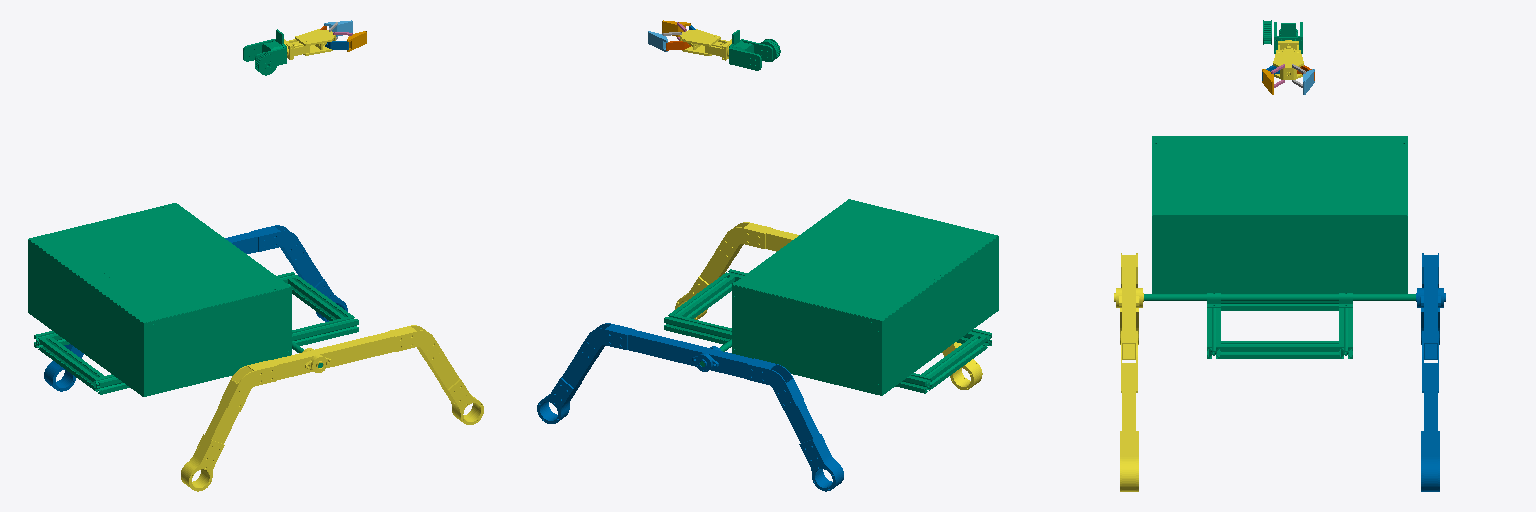
URDF robot description (atom):
<?xml version="1.0"?>
<robot name="atom">
  <!-- This file is used only for state publishing (robot/joint), and is not part of the simulation itself -->

  <link name="atom"/>
  <joint name="atom_to_atom_body" type="fixed">
    <parent link="atom"/>
    <child link="atom_body"/>
  </joint>

  <link name="atom_body"/>
  <joint name="atom_body_to_Body" type="fixed">
    <parent link="atom_body"/>
    <child link="Body"/>
  </joint>

  <!-- Base body link -->
  <link name="Body">
    <inertial>
      <mass value="1.14395"/>
      <inertia ixx="0.095329" ixy="0" ixz="0" iyy="0.381317" iyz="0" izz="0.476646"/>
    </inertial>
    <visual>
      <geometry>
        <mesh filename="models/atom/Body/Body.obj"/>
      </geometry>
    </visual>
    <collision>
      <origin xyz="-0.2 0 -0.0815"/>
      <geometry>
        <box size="0.4 0.44 0.163"/>
      </geometry>
    </collision>
  </link>

  <link name="RL">
    <inertial>
      <mass value="1.14395"/>
      <inertia ixx="0.095329" ixy="0" ixz="0" iyy="0.381317" iyz="0" izz="0.476646"/>
    </inertial>
    <visual>
      <geometry>
        <mesh filename="models/atom/Body/RL.obj"/>
      </geometry>
    </visual>
    <collision>
      <origin xyz="-0.05192 -0.0325 0"/>
      <geometry>
        <box size="0.487 0.04 0.057"/>
      </geometry>
    </collision>
  </link>

  <link name="LL">
    <inertial>
      <mass value="1.14395"/>
      <inertia ixx="0.095329" ixy="0" ixz="0" iyy="0.381317" iyz="0" izz="0.476646"/>
    </inertial>
    <visual>
      <geometry>
        <mesh filename="models/atom/Body/LL.obj"/>
      </geometry>
    </visual>
    <collision>
      <origin xyz="-0.05192 -0.0325 0"/>
      <geometry>
        <box size="0.487 0.04 0.057"/>
      </geometry>
    </collision>
  </link>

  <link name="RFW">
    <inertial>
      <mass value="1.14395"/>
      <inertia ixx="0.095329" ixy="0" ixz="0" iyy="0.381317" iyz="0" izz="0.476646"/>
    </inertial>
    <visual>
      <geometry>
        <mesh filename="models/atom/Body/Wheel_L.obj" scale="1 -1 1"/>
      </geometry>
    </visual>
    <collision>
      <origin xyz="0 -0.098 0" rpy="1.5707 0 0"/>
      <geometry>
        <cylinder radius="0.16" length="0.12"/>
      </geometry>
    </collision>
  </link>

  <link name="RBW">
    <inertial>
      <mass value="1.14395"/>
      <inertia ixx="0.095329" ixy="0" ixz="0" iyy="0.381317" iyz="0" izz="0.476646"/>
    </inertial>
    <visual>
      <geometry>
        <mesh filename="models/atom/Body/Wheel_L.obj" scale="1 -1 1"/>
      </geometry>
    </visual>
    <collision>
      <origin xyz="0 -0.098 0" rpy="1.5707 0 0"/>
      <geometry>
        <cylinder radius="0.16" length="0.12"/>
      </geometry>
    </collision>
  </link>

  <link name="LBW">
    <inertial>
      <mass value="1.14395"/>
      <inertia ixx="0.095329" ixy="0" ixz="0" iyy="0.381317" iyz="0" izz="0.476646"/>
    </inertial>
    <visual>
      <geometry>
        <mesh filename="models/atom/Body/Wheel_L.obj" scale="1 1 1"/>
      </geometry>
    </visual>
    <collision>
      <origin xyz="0 -0.098 0" rpy="1.5707 0 0"/>
      <geometry>
        <cylinder radius="0.16" length="0.12"/>
      </geometry>
    </collision>
  </link>

  <link name="LFW">
    <inertial>
      <mass value="1.14395"/>
      <inertia ixx="0.095329" ixy="0" ixz="0" iyy="0.381317" iyz="0" izz="0.476646"/>
    </inertial>
    <visual>
      <geometry>
        <mesh filename="models/atom/Body/Wheel_L.obj" scale="1 1 1"/>
      </geometry>
    </visual>
    <collision>
      <origin xyz="0 -0.098 0" rpy="1.5707 0 0"/>
      <geometry>
        <cylinder radius="0.16" length="0.12"/>
      </geometry>
    </collision>
  </link>

  <link name="Lidar_Link"/>
  <joint name="LIDAR_Body" type="fixed">
    <parent link="Body"/>
    <child link="Lidar_Link"/>
    <origin xyz="-0.015 0 -0.115" rpy="0 0 0"/>
  </joint>

  <link name="gpu_lidar"/>
  <joint name="Lidar_Link_gpu_lidar" type="fixed">
    <parent link="Lidar_Link"/>
    <child link="gpu_lidar"/>
    <origin xyz="0 0 0" rpy="0 0 0"/>
  </joint>

  <!-- Depth camera -->
  <link name="depth_camera"/>

  <joint name="Body_depth" type="fixed">
    <parent link="Body"/>
    <child link="depth_camera"/>
    <origin xyz="0.2325 0 0.015"/>
  </joint>

  <link name="camera_sensor"/>
  <joint name="depth_camera_camera_sensor" type="fixed">
    <parent link="depth_camera"/>
    <child link="camera_sensor"/>
    <origin xyz="0 0 0" rpy="0 0 0"/>
  </joint>

  <link name="depth_sensor"/>
  <joint name="depth_camera_depth_sensor" type="fixed">
    <parent link="depth_camera"/>
    <child link="depth_sensor"/>
    <origin xyz="0 0 0" rpy="0 0 0"/>
  </joint>

  <!-- ARM -->
  <!-- All arm links are rotated 90° about Z to face forward (+X) instead of sideways (-Y) -->

  <link name="STEM">
    <inertial>
      <mass value="1.14395"/>
      <inertia ixx="0.095329" ixy="0" ixz="0" iyy="0.381317" iyz="0" izz="0.476646"/>
    </inertial>
    <visual>
      <origin rpy="0 0 1.5708"/>
      <geometry>
        <mesh filename="models/atom/Arm/STEM.obj"/>
      </geometry>
    </visual>
    <collision>
      <geometry>
        <box size="0.2 0.2 0.2"/>
      </geometry>
    </collision>
  </link>

  <link name="A1">
    <inertial>
      <mass value="1.14395"/>
      <inertia ixx="0.095329" ixy="0" ixz="0" iyy="0.381317" iyz="0" izz="0.476646"/>
    </inertial>
    <visual>
      <origin rpy="0 0 1.5708"/>
      <geometry>
        <mesh filename="models/atom/Arm/A1.obj"/>
      </geometry>
    </visual>
  </link>

  <link name="A2">
    <inertial>
      <mass value="1.14395"/>
      <inertia ixx="0.095329" ixy="0" ixz="0" iyy="0.381317" iyz="0" izz="0.476646"/>
    </inertial>
    <visual>
      <origin rpy="0 0 1.5708"/>
      <geometry>
        <mesh filename="models/atom/Arm/A2.obj"/>
      </geometry>
    </visual>
  </link>

  <link name="A3">
    <inertial>
      <mass value="1.14395"/>
      <inertia ixx="0.095329" ixy="0" ixz="0" iyy="0.381317" iyz="0" izz="0.476646"/>
    </inertial>
    <visual>
      <origin rpy="0 0 1.5708"/>
      <geometry>
        <mesh filename="models/atom/Arm/A3.obj"/>
      </geometry>
    </visual>
  </link>

  <link name="A4">
    <inertial>
      <mass value="1.14395"/>
      <inertia ixx="0.095329" ixy="0" ixz="0" iyy="0.381317" iyz="0" izz="0.476646"/>
    </inertial>
    <visual>
      <origin rpy="0 0 1.5708"/>
      <geometry>
        <mesh filename="models/atom/Arm/A4.obj"/>
      </geometry>
    </visual>
  </link>

  <link name="A5">
    <inertial>
      <mass value="1.14395"/>
      <inertia ixx="0.095329" ixy="0" ixz="0" iyy="0.381317" iyz="0" izz="0.476646"/>
    </inertial>
    <visual>
      <origin rpy="0 0 1.5708"/>
      <geometry>
        <mesh filename="models/atom/Arm/A5.obj"/>
      </geometry>
    </visual>
  </link>

  <!-- Gripper links -->
  <link name="G_R1">
    <inertial>
      <mass value="1.14395"/>
      <inertia ixx="0.095329" ixy="0" ixz="0" iyy="0.381317" iyz="0" izz="0.476646"/>
    </inertial>
    <visual>
      <origin rpy="0 0 1.5708"/>
      <geometry>
        <mesh filename="models/atom/Arm/G_R1.obj"/>
      </geometry>
    </visual>
  </link>

  <link name="G_L1">
    <inertial>
      <mass value="1.14395"/>
      <inertia ixx="0.095329" ixy="0" ixz="0" iyy="0.381317" iyz="0" izz="0.476646"/>
    </inertial>
    <visual>
      <origin rpy="0 0 1.5708"/>
      <geometry>
        <mesh filename="models/atom/Arm/G_L1.obj"/>
      </geometry>
    </visual>
  </link>

  <link name="G_R2">
    <inertial>
      <mass value="1.14395"/>
      <inertia ixx="0.095329" ixy="0" ixz="0" iyy="0.381317" iyz="0" izz="0.476646"/>
    </inertial>
    <visual>
      <origin rpy="0 0 1.5708"/>
      <geometry>
        <mesh filename="models/atom/Arm/G_R2.obj"/>
      </geometry>
    </visual>
  </link>

  <link name="G_L2">
    <inertial>
      <mass value="1.14395"/>
      <inertia ixx="0.095329" ixy="0" ixz="0" iyy="0.381317" iyz="0" izz="0.476646"/>
    </inertial>
    <visual>
      <origin rpy="0 0 1.5708"/>
      <geometry>
        <mesh filename="models/atom/Arm/G_L2.obj"/>
      </geometry>
    </visual>
  </link>

  <link name="RP">
    <inertial>
      <mass value="1.14395"/>
      <inertia ixx="0.095329" ixy="0" ixz="0" iyy="0.381317" iyz="0" izz="0.476646"/>
    </inertial>
    <visual>
      <origin rpy="0 0 1.5708"/>
      <geometry>
        <mesh filename="models/atom/Arm/RP.obj"/>
      </geometry>
    </visual>
  </link>

  <link name="LP">
    <inertial>
      <mass value="1.14395"/>
      <inertia ixx="0.095329" ixy="0" ixz="0" iyy="0.381317" iyz="0" izz="0.476646"/>
    </inertial>
    <visual>
      <origin rpy="0 0 1.5708"/>
      <geometry>
        <mesh filename="models/atom/Arm/LP.obj"/>
      </geometry>
    </visual>
  </link>

  <joint name="Body_Arm" type="fixed">
    <parent link="Body"/>
    <child link="STEM"/>
    <origin xyz="0.1175 0 0.008" rpy="0 0 0"/>
  </joint>

  <joint name="STEM_A1" type="revolute">
    <parent link="STEM"/>
    <child link="A1"/>
    <origin xyz="0 0 0.016" rpy="0 0 0"/>
    <axis xyz="0 0 1"/>
    <limit lower="-3.14159" upper="3.14159" effort="100" velocity="1"/>
  </joint>

  <joint name="A1_A2" type="revolute">
    <parent link="A1"/>
    <child link="A2"/>
    <origin xyz="0 0.016 0.08" rpy="0 0 0"/>
    <axis xyz="0 1 0"/>
    <limit lower="-1.5708" upper="1.5708" effort="100" velocity="1"/>
  </joint>

  <joint name="A2_A3" type="revolute">
    <parent link="A2"/>
    <child link="A3"/>
    <origin xyz="-0.19874 0.0021 0.33612" rpy="0 0 0"/>
    <axis xyz="0 1 0"/>
    <limit lower="-1.5708" upper="1.5708" effort="100" velocity="1"/>
  </joint>

  <joint name="A3_A4" type="revolute">
    <parent link="A3"/>
    <child link="A4"/>
    <origin xyz="0.1469 0 0.21224" rpy="0 0 0"/>
    <axis xyz="0 1 0"/>
    <limit lower="-1.5708" upper="1.5708" effort="100" velocity="1"/>
  </joint>

  <joint name="A4_A5" type="revolute">
    <parent link="A4"/>
    <child link="A5"/>
    <origin xyz="0.068 0 0" rpy="0 0 0"/>
    <axis xyz="0 1 0"/>
    <limit lower="-1.5708" upper="1.5708" effort="100" velocity="1"/>
  </joint>

  <joint name="A5_GL1" type="revolute">
    <parent link="A5"/>
    <child link="G_L1"/>
    <origin xyz="0.116 0.03 0" rpy="0 0 0"/>
    <axis xyz="0 0 1"/>
    <limit lower="-0.7854" upper="0.7854" effort="100" velocity="1"/>
  </joint>

  <joint name="A5_GR1" type="revolute">
    <parent link="A5"/>
    <child link="G_R1"/>
    <origin xyz="0.116 -0.03 0" rpy="0 0 0"/>
    <axis xyz="0 0 1"/>
    <limit lower="-0.7854" upper="0.7854" effort="100" velocity="1"/>
  </joint>

  <joint name="A5_GL2" type="revolute">
    <parent link="A5"/>
    <child link="G_L2"/>
    <origin xyz="0.136 0.01 0" rpy="0 0 0"/>
    <axis xyz="0 0 1"/>
    <limit lower="-0.7854" upper="0.7854" effort="100" velocity="1"/>
  </joint>

  <joint name="A5_GR2" type="revolute">
    <parent link="A5"/>
    <child link="G_R2"/>
    <origin xyz="0.136 -0.01 0" rpy="0 0 0"/>
    <axis xyz="0 0 1"/>
    <limit lower="-0.7854" upper="0.7854" effort="100" velocity="1"/>
  </joint>

  <joint name="GL1_LP" type="revolute">
    <parent link="G_L1"/>
    <child link="LP"/>
    <origin xyz="0.03238 0.02349 0" rpy="0 0 0"/>
    <axis xyz="0 0 1"/>
    <limit lower="-0.7854" upper="0.7854" effort="100" velocity="1"/>
  </joint>

  <joint name="GR1_RP" type="revolute">
    <parent link="G_R1"/>
    <child link="RP"/>
    <origin xyz="0.03238 -0.02349 0" rpy="0 0 0"/>
    <axis xyz="0 0 1"/>
    <limit lower="-0.7854" upper="0.7854" effort="100" velocity="1"/>
  </joint>

  <joint name="Body_RL" type="continuous">
    <parent link="Body"/>
    <child link="RL"/>
    <origin xyz="0.025 -0.305 0.013"/>
    <axis xyz="0 1 0"/>
  </joint>

  <joint name="Body_LL" type="revolute">
    <parent link="Body"/>
    <child link="LL"/>
    <origin xyz="0.025 0.305 0.013"/>
    <axis xyz="0 1 0"/>
    <limit lower="0" upper="0" effort="1000" velocity="1000"/>
  </joint>

  <joint name="RL_FW" type="continuous">
    <parent link="RL"/>
    <child link="RFW"/>
    <origin xyz="0.41717 -0.035 -0.22366"/>
    <axis xyz="0 1 0"/>
  </joint>

  <joint name="RL_BW" type="continuous">
    <parent link="RL"/>
    <child link="RBW"/>
    <origin xyz="-0.31739 -0.035 -0.22353"/>
    <axis xyz="0 1 0"/>
  </joint>

  <joint name="LL_BW" type="continuous">
    <parent link="LL"/>
    <child link="LBW"/>
    <origin xyz="-0.31739 0.035 -0.22353"/>
    <axis xyz="0 1 0"/>
  </joint>

  <joint name="LL_FW" type="continuous">
    <parent link="LL"/>
    <child link="LFW"/>
    <origin xyz="0.41739 0.035 -0.22353"/>
    <axis xyz="0 1 0"/>
  </joint>

</robot>

--- What the picture shows (computed from the rendered views, not written in the file) ---
The picture shows the robot from 3 angles, left to right: view 1: azimuth 30°, elevation 25°; view 2: azimuth 150°, elevation 25°; view 3: azimuth 270°, elevation 25°; orthographic projection.
Model atom with 26 links and 25 joints (12 revolute, 5 continuous, 8 fixed), rooted at atom, posed every joint at zero.
Visible links, largest first — view 1: Body, RL, LL, A4, A5; view 2: Body, LL, RL, A4, A5; view 3: Body, RL, LL, A5, A4.
Link boxes in pixels (box(x1,y1,x2,y2)): Body: box(28, 203, 358, 396); RL: box(181, 325, 483, 491); LL: box(44, 225, 347, 391); A4: box(243, 29, 286, 75); A5: box(284, 29, 335, 59); Body: box(664, 199, 998, 395); LL: box(537, 323, 843, 491); RL: box(675, 222, 982, 389); A4: box(729, 30, 780, 70); A5: box(680, 29, 731, 60); Body: box(1144, 136, 1415, 358); RL: box(1114, 253, 1143, 491); LL: box(1416, 253, 1445, 491); A5: box(1273, 40, 1303, 79); A4: box(1263, 20, 1302, 53).
Size in the robot's own frame: 0.9319 by 0.705 by 0.945 metres.
Meshes: 16 distinct files referenced, 11 mesh visuals loaded (11 OBJ); not drawn: 8 (reference not matched to a file when rendering).
